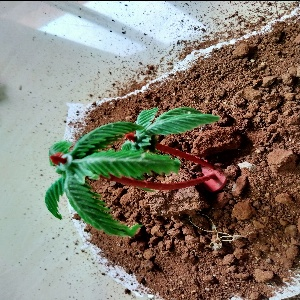plant: (46, 111, 232, 235)
